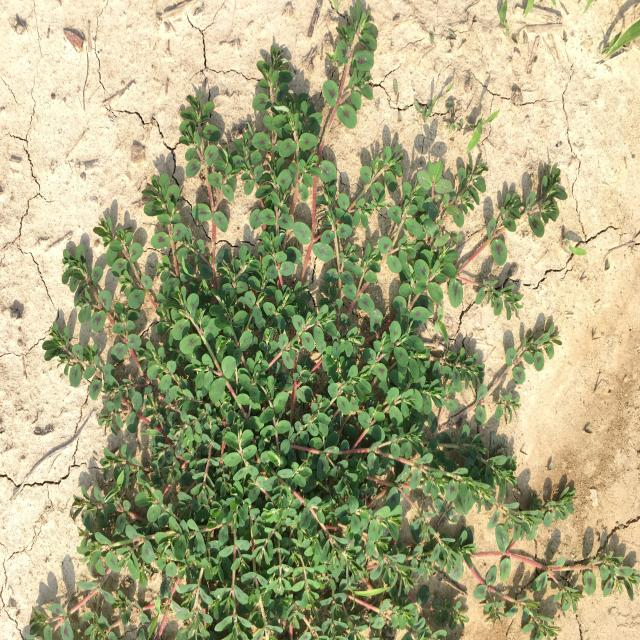SpottedSpurge: (29, 1, 640, 640)
